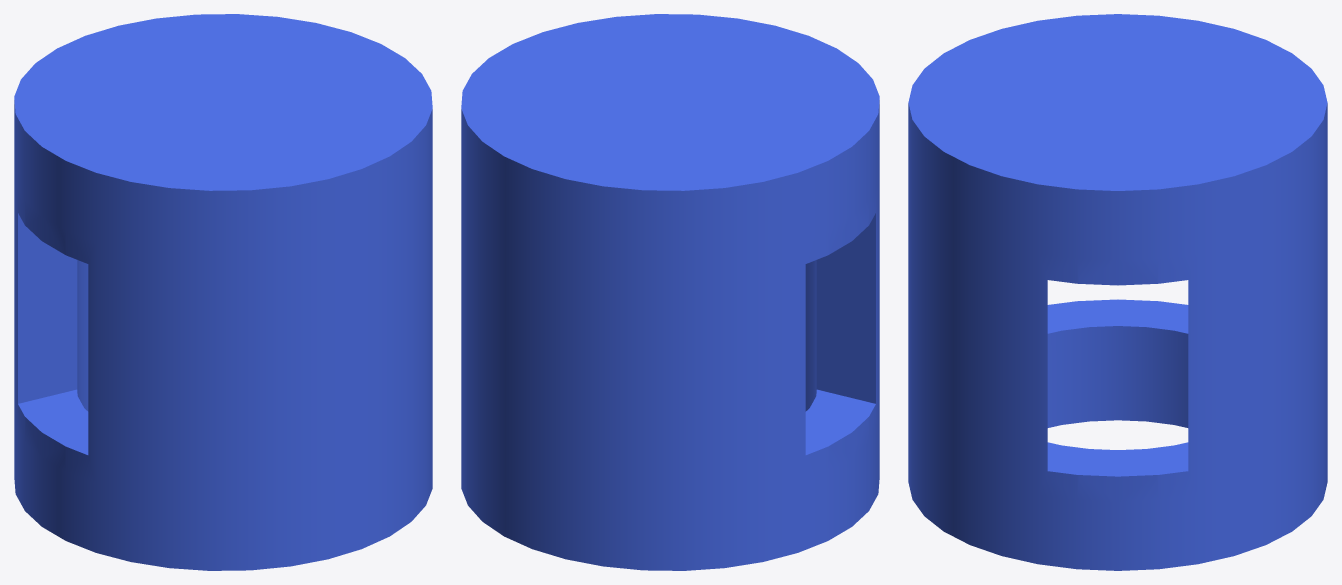
File: var_17.glb
3 renders of one model, left to right at view 1: azimuth 30°, elevation 25°; view 2: azimuth 150°, elevation 25°; view 3: azimuth 270°, elevation 25°, orthographic.
Visible parts, largest first — view 1: Cylinder; view 2: Cylinder; view 3: Cylinder.
Part boxes in pixels (box(x1,y1,x2,y2)): Cylinder: box(14, 14, 432, 570); Cylinder: box(461, 14, 879, 570); Cylinder: box(908, 14, 1327, 570).
Size of the model in its own units: 2 by 2 by 2.
